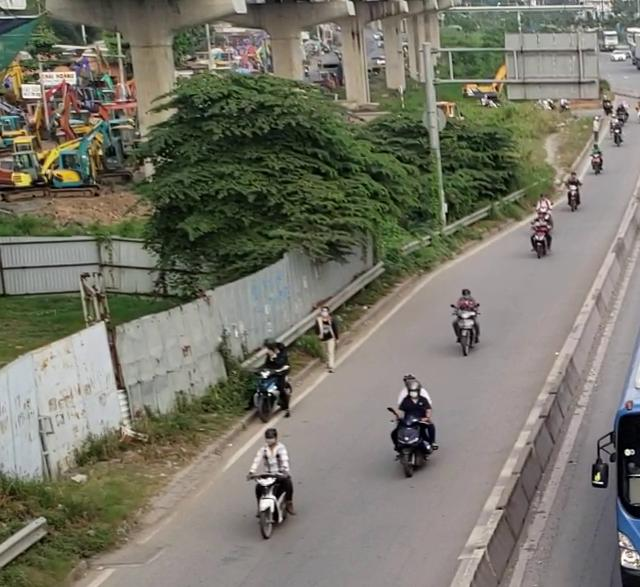Motorcycle: (386, 406, 437, 478), (246, 470, 291, 539), (249, 366, 291, 423), (449, 302, 480, 356), (529, 218, 553, 258), (564, 181, 582, 211)
